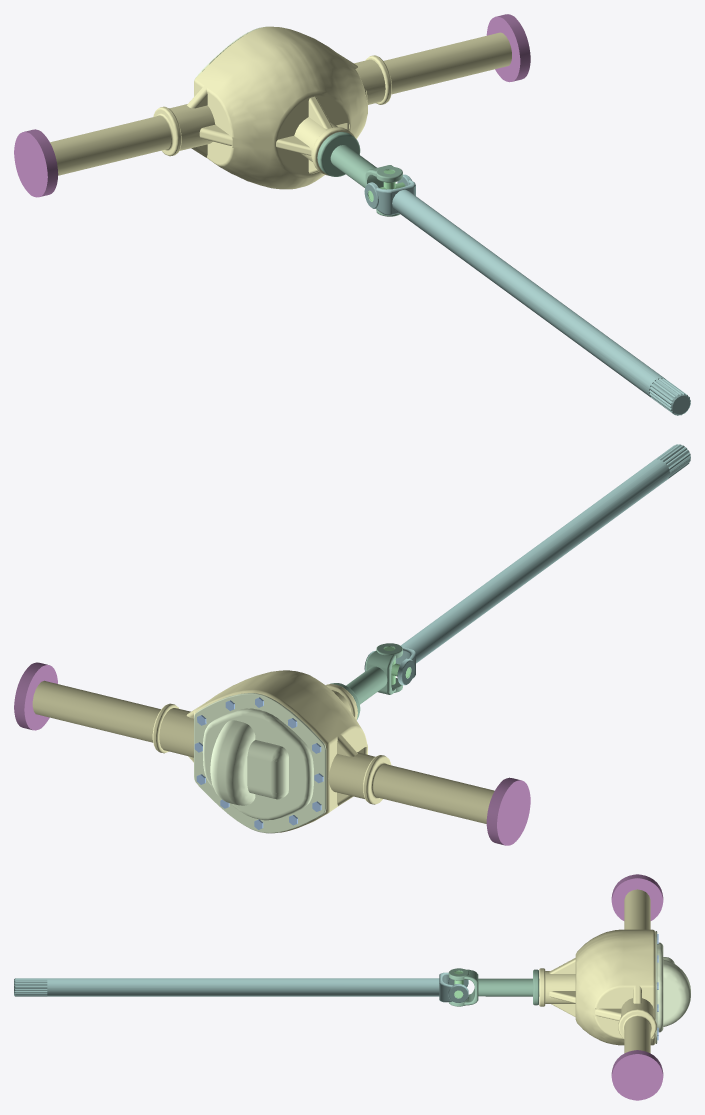
Rendered from Drivetrain isolated.gltf.
The picture shows the model from 3 angles, top to bottom: view 1: azimuth 30°, elevation 25°; view 2: azimuth 150°, elevation 25°; view 3: azimuth 270°, elevation 25°; orthographic projection. The views are drawn at different scales.
Visible parts, largest first — view 1: Housing, Shaft B, Axels (×2), Shaft A; view 2: Housing, Cover, Shaft B, Axels (×2), Shaft A; view 3: Housing, Shaft B, Axels (×2), Cover, Shaft A.
Part boxes in pixels (x1,y1,x2,y2): Housing: [50, 26, 511, 189]; Shaft B: [364, 174, 690, 415]; Axels (×2): [14, 14, 530, 197]; Shaft A: [317, 132, 402, 216]; Housing: [32, 670, 494, 832]; Cover: [194, 693, 326, 833]; Shaft B: [364, 444, 690, 685]; Axels (×2): [14, 662, 530, 845]; Shaft A: [330, 643, 402, 719]; Housing: [539, 889, 656, 1053]; Shaft B: [14, 972, 468, 1002]; Axels (×2): [611, 874, 663, 1100]; Cover: [655, 931, 690, 1043]; Shaft A: [448, 968, 539, 1006].
Bounding box in the file's own units: 140 × 39 × 223.
